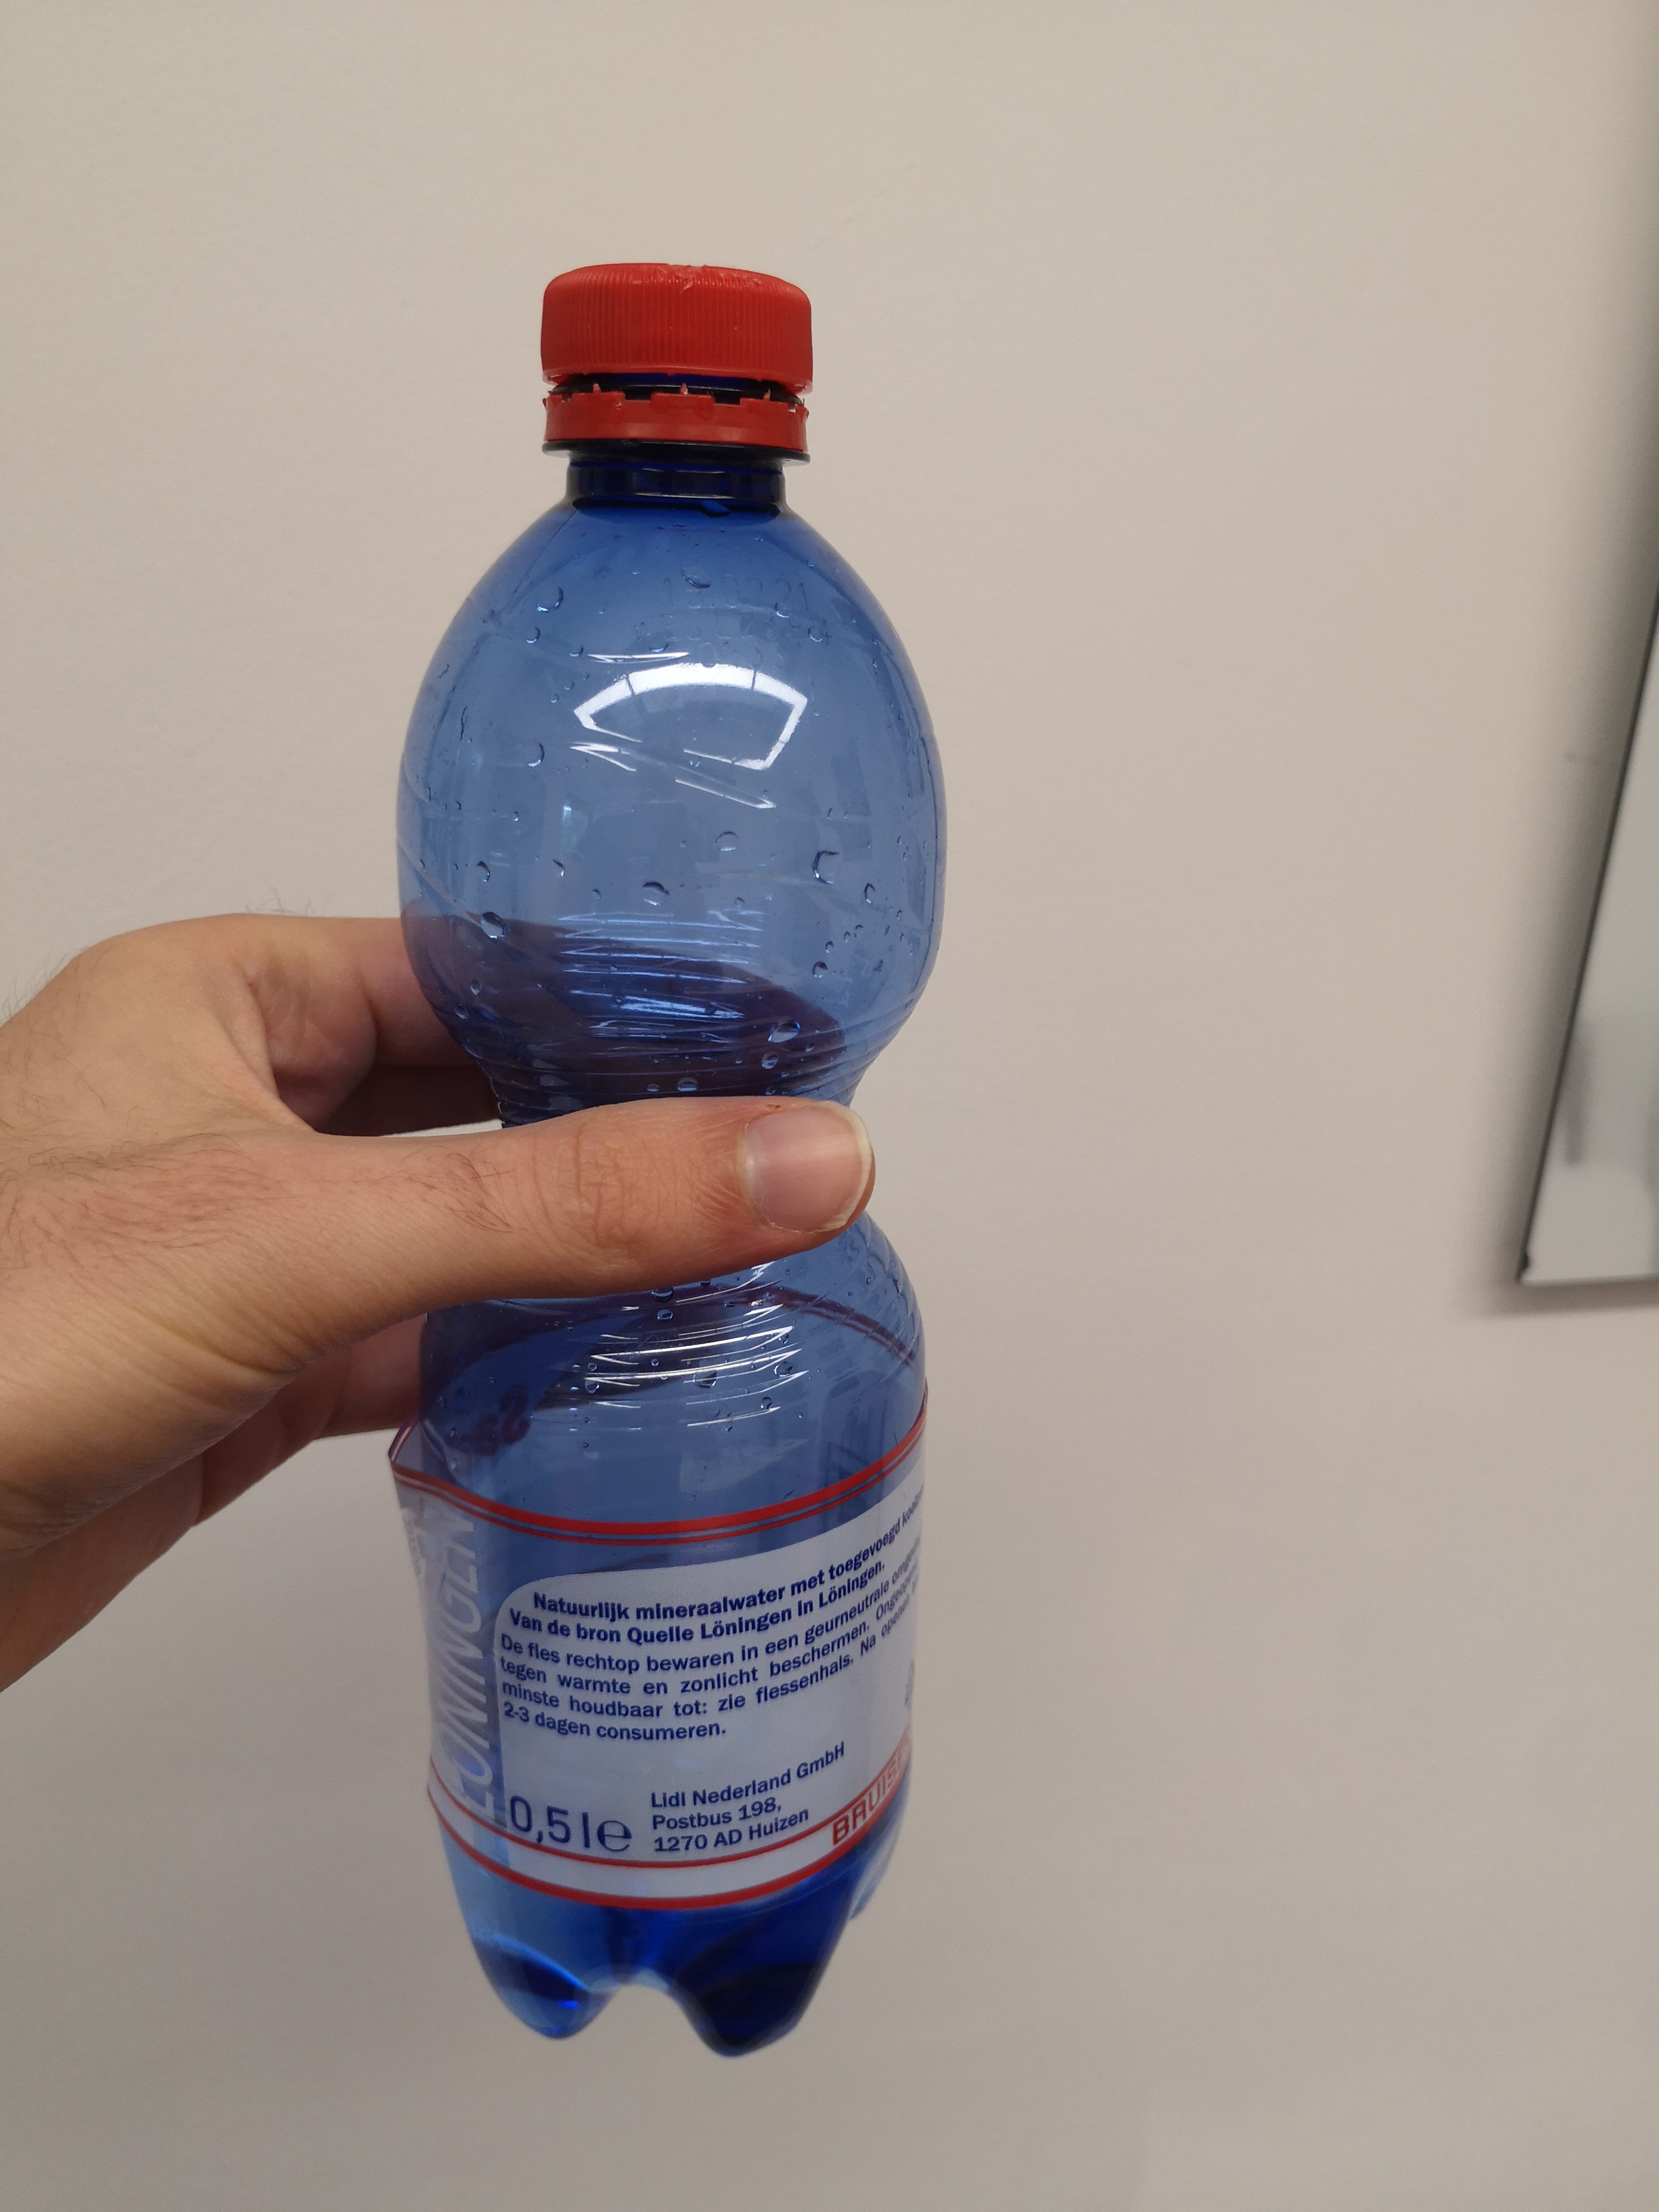plastic_bottle: (361, 223, 981, 2078)
